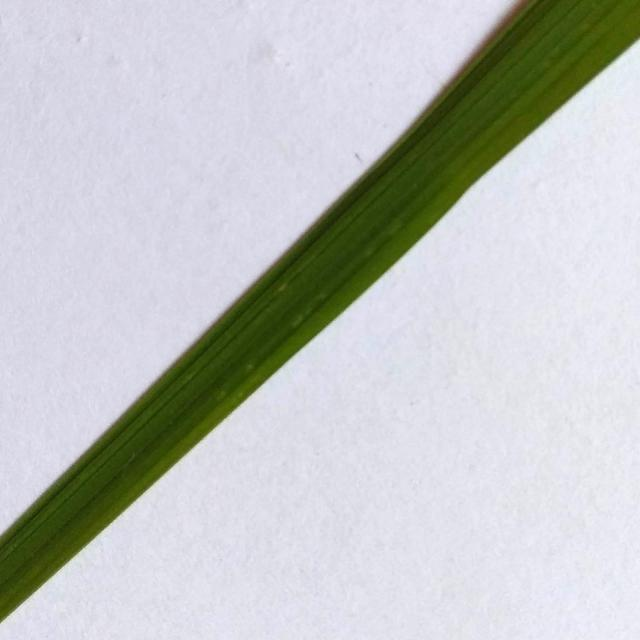healthy: (2, 0, 640, 622)
